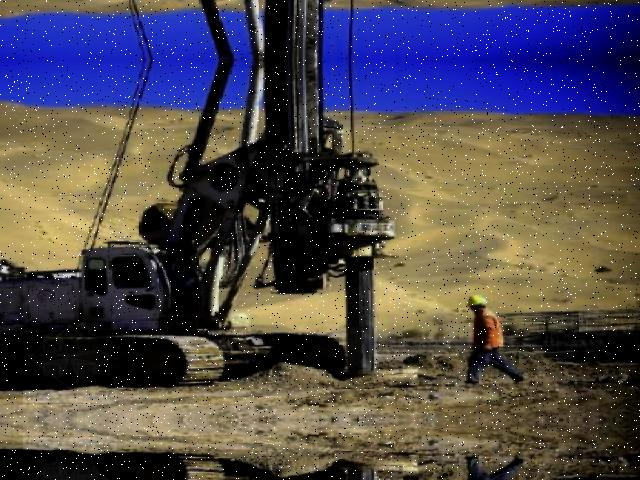Helmet: (467, 292, 495, 310)
